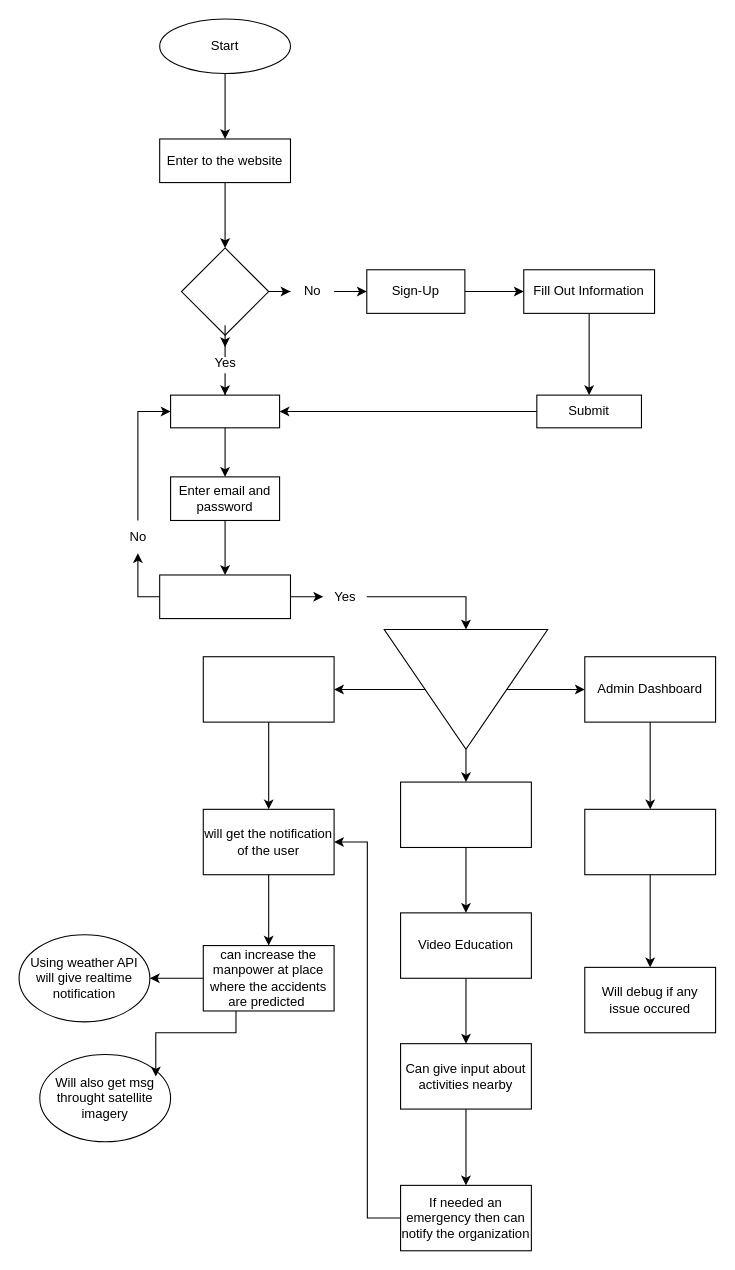
The diagram is 735 pixels wide and 1270 high, and some of its shapes have lost their labels. The centre of each missing label's shape, as x and y in pixels:
"Email and password valid" goes at [224,596].
"Have an account" goes at [224,291].
"Logged into system" goes at [465,688].
"Organization Dashboard" goes at [268,689].
"Sign-In" goes at [224,411].
"User Dashboard" goes at [465,814].
"Will monitor the activities of website" goes at [650,841].
